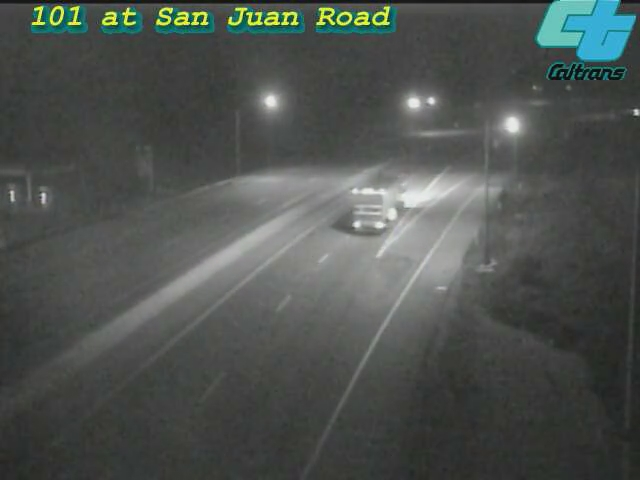vehicle: (339, 163, 419, 243), (488, 100, 538, 150)
